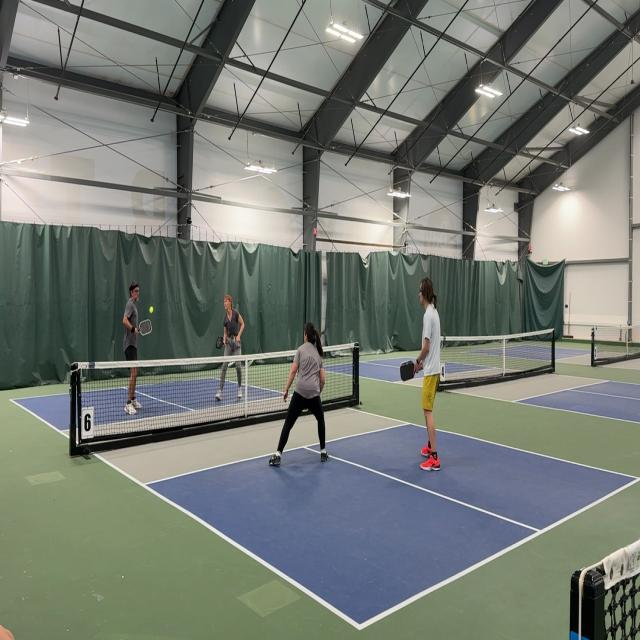ball: (149, 305, 154, 314)
